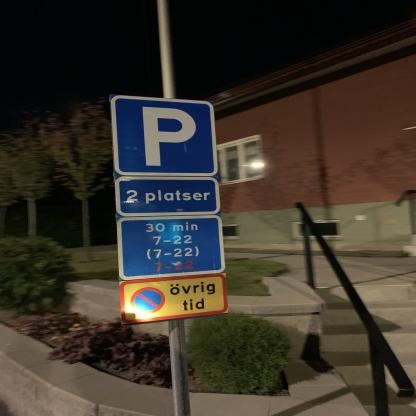P-skylt: (107, 94, 222, 179)
